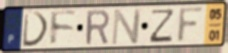D: (21, 10, 51, 49)
F: (175, 5, 207, 45), (49, 10, 78, 48)
N: (110, 7, 144, 47)
R: (84, 8, 111, 47)
Z: (147, 8, 177, 44)
